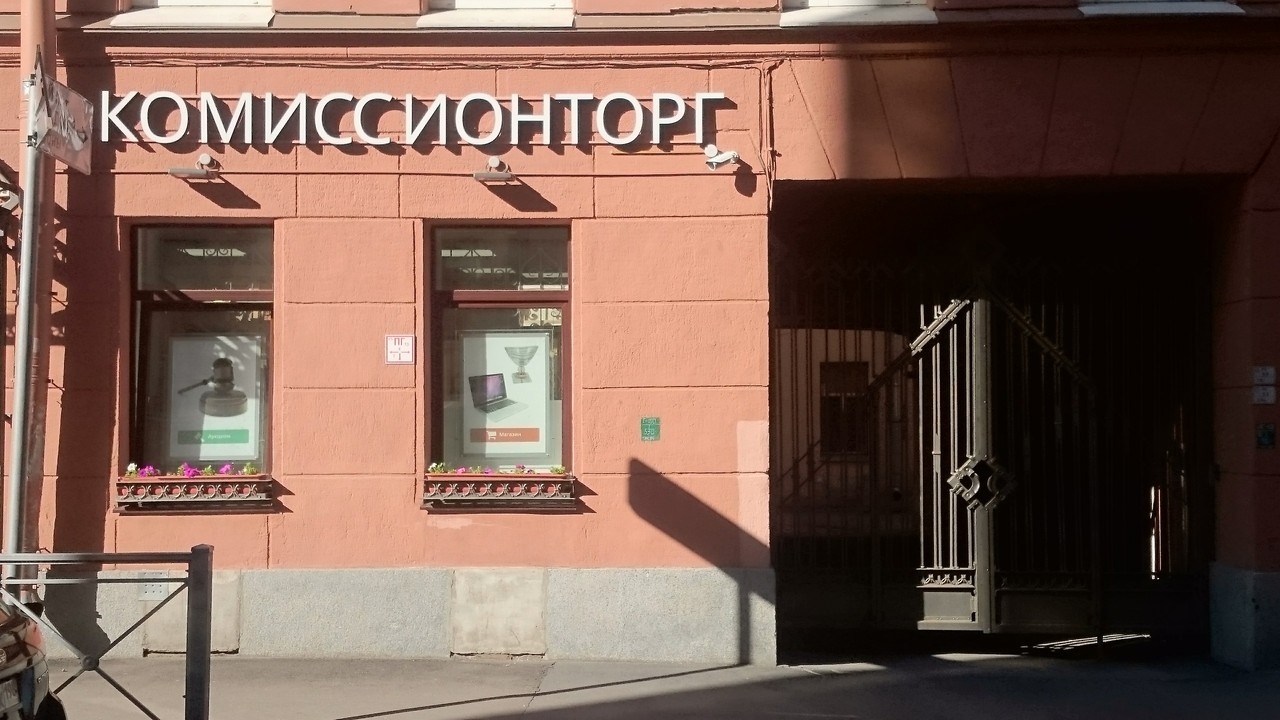arch: (772, 179, 1262, 688)
signboard: (101, 91, 722, 144)
window: (122, 226, 272, 477), (432, 222, 568, 492)
